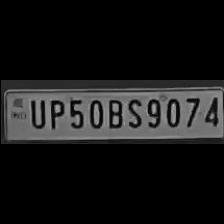0: (162, 94, 180, 128), (85, 96, 103, 128)
4: (200, 94, 220, 128)
5: (64, 96, 84, 130)
7: (182, 94, 198, 128)
9: (142, 95, 162, 129)
B: (104, 96, 124, 128)
P: (44, 96, 62, 130)
S: (124, 95, 142, 129)
U: (26, 96, 44, 130)
